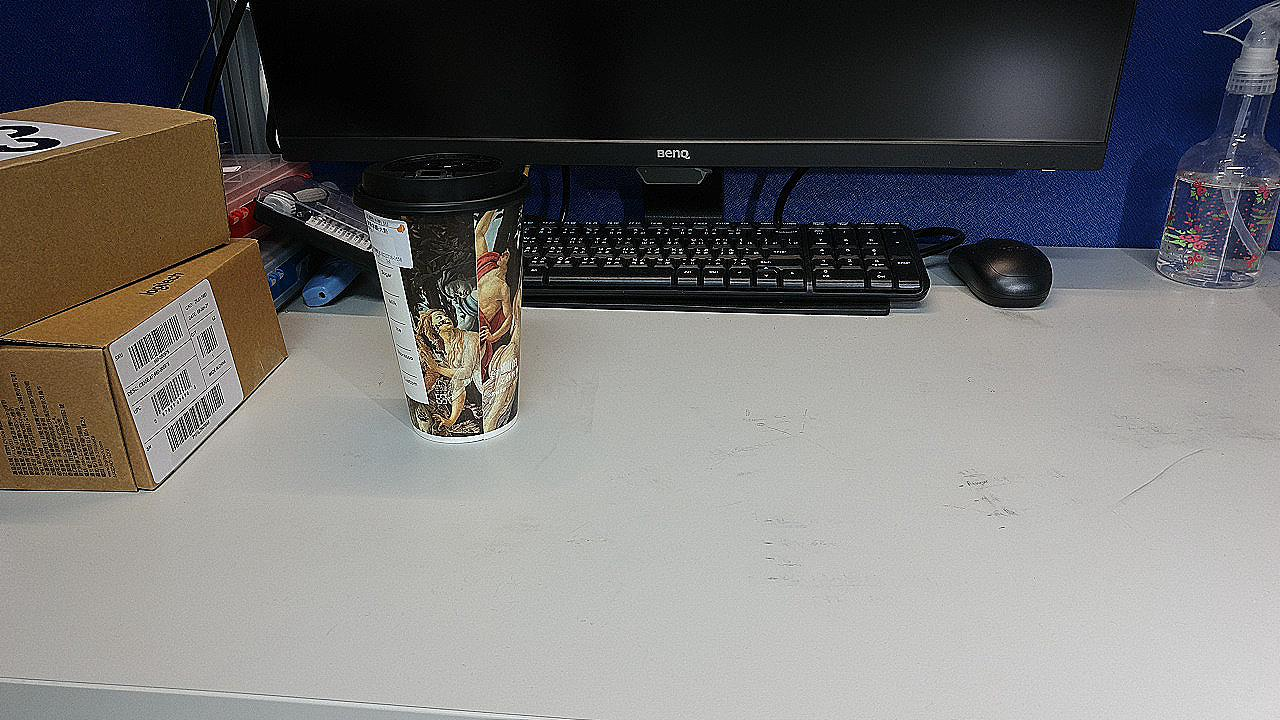blade: (377, 419, 442, 455)
grasp: (420, 373, 553, 447)
